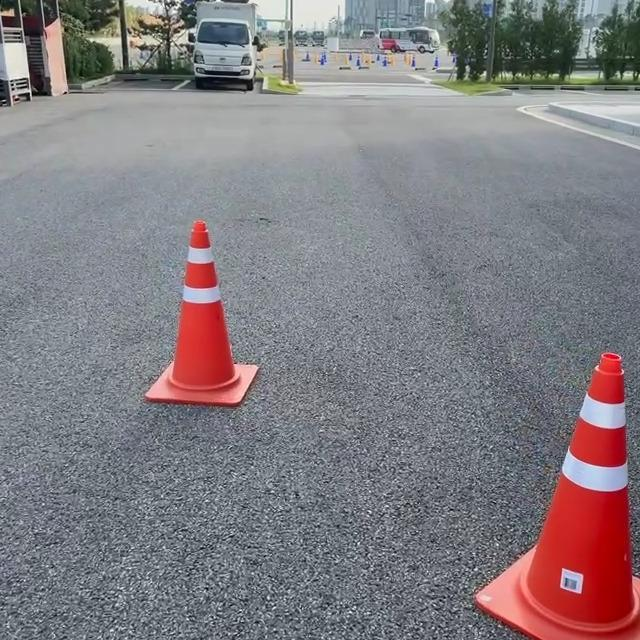fallen_object: (466, 320, 629, 624), (127, 213, 285, 394)
